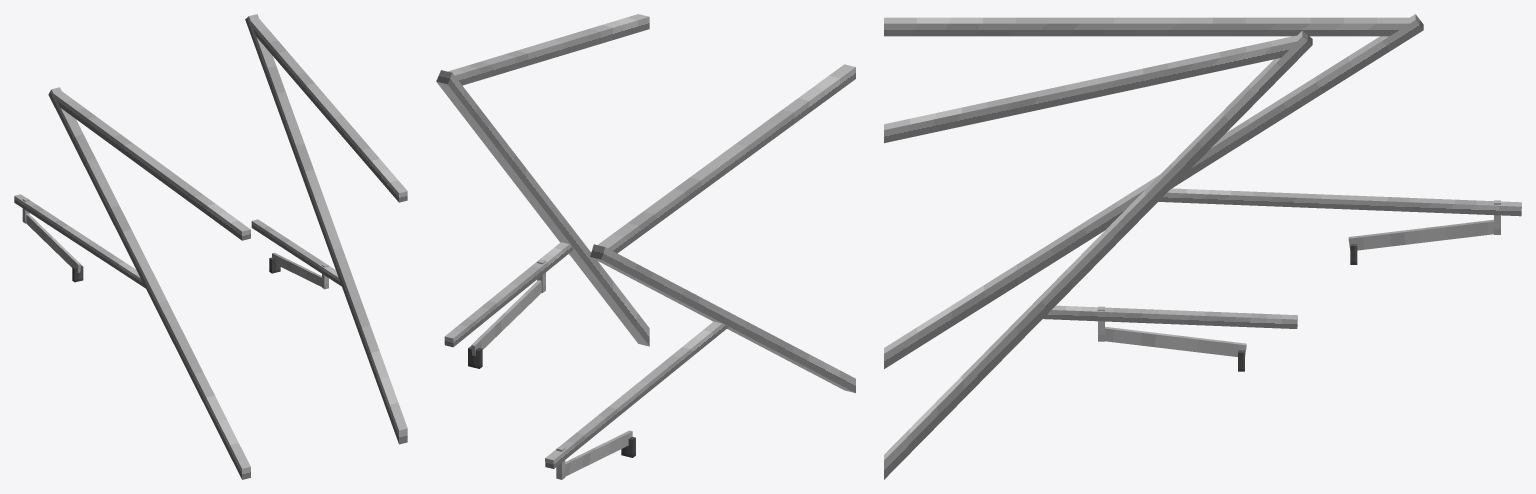
The model's file is cantilever_center_5px.obj.
3 views of the same model, side by side, from view 1: azimuth 30°, elevation 25°; view 2: azimuth 150°, elevation 25°; view 3: azimuth 270°, elevation 25° (orthographic). The views are drawn at different scales.
Visible parts, largest first — view 1: 26ccf54c-472e-4f34-8f8f-159fd3be0008, b6737b33-1602-4179-b447-9b2851695c5c, 3ff499c4-bbe2-4397-bd0a-e2a6286c8ecd, d13e2cf5-d811-4141-a380-593b6c410784, 46eb0f47-89a0-43ea-95f1-6a7e5b2615b4, a2df7f78-d7de-4ef8-a397-3f5f6ddfe55f, ae372ef0-363a-4b97-b24c-8aa1007cdff4, 9a7f213a-e12b-4b6f-9c9c-3d82b4442e8e; view 2: 26ccf54c-472e-4f34-8f8f-159fd3be0008, 3ff499c4-bbe2-4397-bd0a-e2a6286c8ecd, b6737b33-1602-4179-b447-9b2851695c5c, d13e2cf5-d811-4141-a380-593b6c410784, 46eb0f47-89a0-43ea-95f1-6a7e5b2615b4, a2df7f78-d7de-4ef8-a397-3f5f6ddfe55f, 9a7f213a-e12b-4b6f-9c9c-3d82b4442e8e, ae372ef0-363a-4b97-b24c-8aa1007cdff4; view 3: 26ccf54c-472e-4f34-8f8f-159fd3be0008, 3ff499c4-bbe2-4397-bd0a-e2a6286c8ecd, b6737b33-1602-4179-b447-9b2851695c5c, d13e2cf5-d811-4141-a380-593b6c410784, 46eb0f47-89a0-43ea-95f1-6a7e5b2615b4, a2df7f78-d7de-4ef8-a397-3f5f6ddfe55f, ae372ef0-363a-4b97-b24c-8aa1007cdff4, 9a7f213a-e12b-4b6f-9c9c-3d82b4442e8e.
Part boxes in pixels (left/top/right/bottom): 26ccf54c-472e-4f34-8f8f-159fd3be0008: left=245, top=14, right=407, bottom=444; b6737b33-1602-4179-b447-9b2851695c5c: left=48, top=87, right=250, bottom=479; 3ff499c4-bbe2-4397-bd0a-e2a6286c8ecd: left=53, top=91, right=250, bottom=240; d13e2cf5-d811-4141-a380-593b6c410784: left=251, top=18, right=407, bottom=202; 46eb0f47-89a0-43ea-95f1-6a7e5b2615b4: left=14, top=194, right=145, bottom=288; a2df7f78-d7de-4ef8-a397-3f5f6ddfe55f: left=251, top=219, right=341, bottom=286; ae372ef0-363a-4b97-b24c-8aa1007cdff4: left=26, top=213, right=80, bottom=272; 9a7f213a-e12b-4b6f-9c9c-3d82b4442e8e: left=272, top=252, right=321, bottom=286; 26ccf54c-472e-4f34-8f8f-159fd3be0008: left=436, top=70, right=649, bottom=346; 3ff499c4-bbe2-4397-bd0a-e2a6286c8ecd: left=597, top=64, right=855, bottom=253; b6737b33-1602-4179-b447-9b2851695c5c: left=590, top=244, right=855, bottom=392; d13e2cf5-d811-4141-a380-593b6c410784: left=448, top=14, right=649, bottom=85; 46eb0f47-89a0-43ea-95f1-6a7e5b2615b4: left=545, top=321, right=728, bottom=468; a2df7f78-d7de-4ef8-a397-3f5f6ddfe55f: left=444, top=242, right=573, bottom=347; 9a7f213a-e12b-4b6f-9c9c-3d82b4442e8e: left=471, top=280, right=541, bottom=356; ae372ef0-363a-4b97-b24c-8aa1007cdff4: left=565, top=430, right=632, bottom=476; 26ccf54c-472e-4f34-8f8f-159fd3be0008: left=884, top=30, right=1312, bottom=479; 3ff499c4-bbe2-4397-bd0a-e2a6286c8ecd: left=884, top=17, right=1409, bottom=36; b6737b33-1602-4179-b447-9b2851695c5c: left=884, top=14, right=1423, bottom=368; d13e2cf5-d811-4141-a380-593b6c410784: left=884, top=35, right=1297, bottom=143; 46eb0f47-89a0-43ea-95f1-6a7e5b2615b4: left=1158, top=188, right=1521, bottom=216; a2df7f78-d7de-4ef8-a397-3f5f6ddfe55f: left=1043, top=305, right=1297, bottom=328; ae372ef0-363a-4b97-b24c-8aa1007cdff4: left=1348, top=219, right=1493, bottom=250; 9a7f213a-e12b-4b6f-9c9c-3d82b4442e8e: left=1105, top=326, right=1246, bottom=356.
Size of the model in its own units: 1.19 by 2.18 by 2.84.
